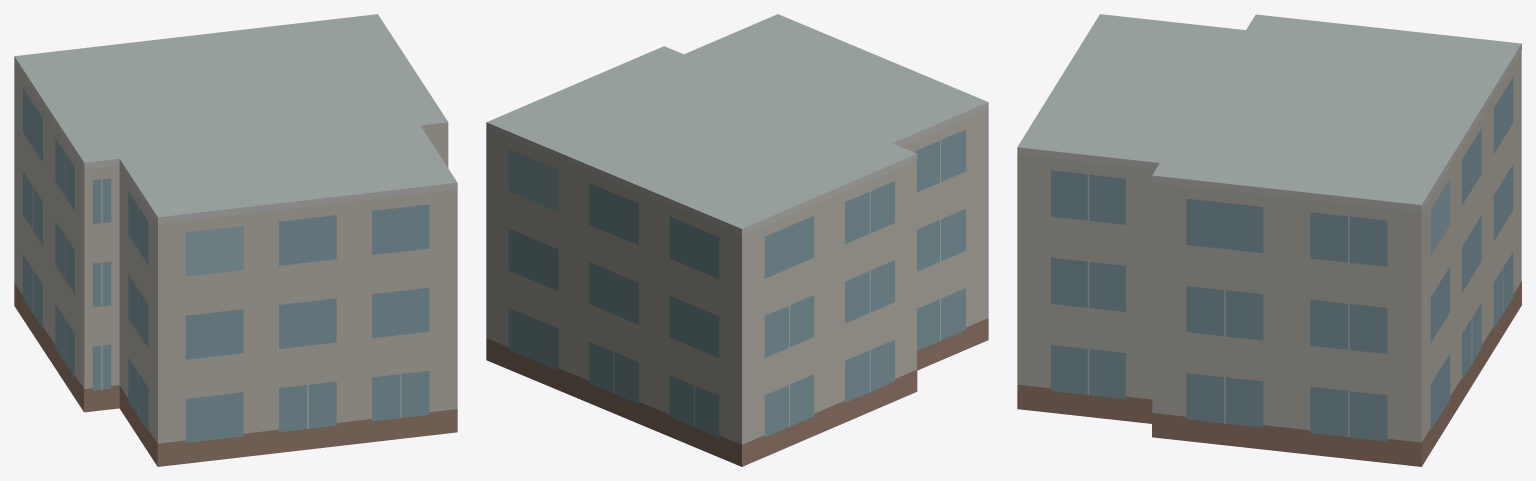
Rendered from survey-upis-32831629.glb.
The picture shows the model from 3 angles, left to right: view 1: azimuth 30°, elevation 25°; view 2: azimuth 150°, elevation 25°; view 3: azimuth 270°, elevation 25°; orthographic projection. The views are drawn at different scales.
Visible parts, largest first — view 1: survey-upis-32831629.tmp; view 2: survey-upis-32831629.tmp; view 3: survey-upis-32831629.tmp.
Part boxes in pixels (box(x1,y1,x2,y2)): survey-upis-32831629.tmp: box(14, 14, 457, 466); survey-upis-32831629.tmp: box(486, 14, 988, 466); survey-upis-32831629.tmp: box(1017, 14, 1521, 466).
Bounding box in the file's own units: 14.34 × 9.15 × 15.99.
